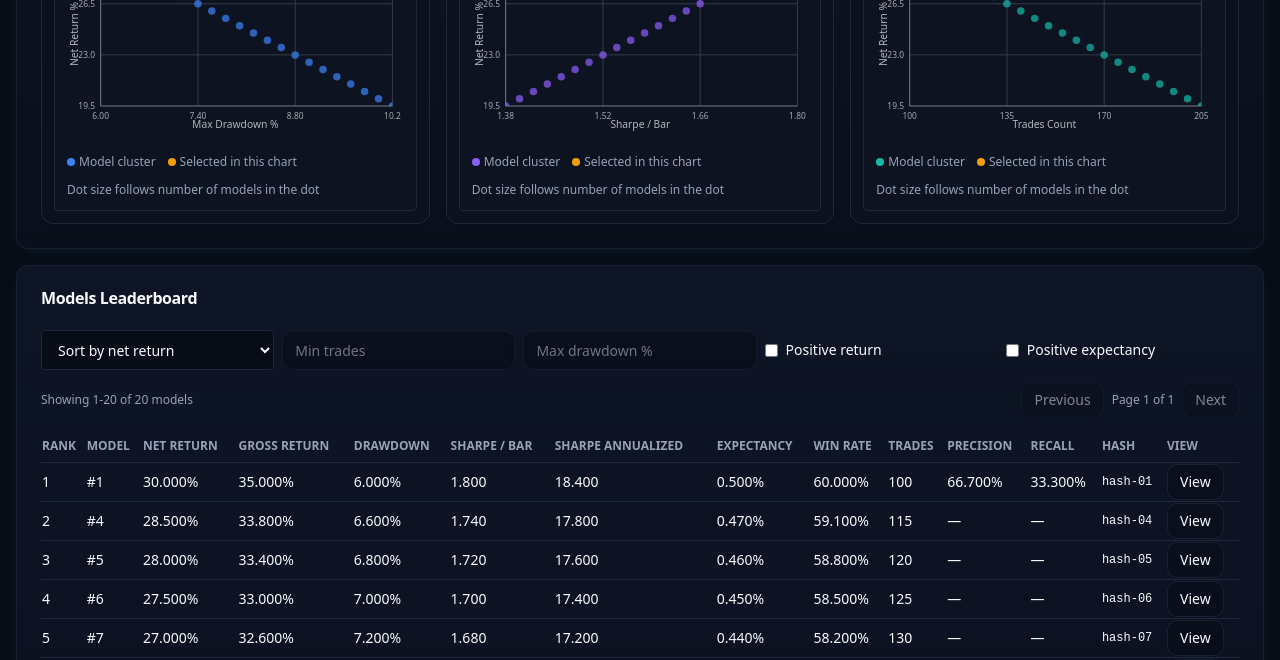
Test: ExperimentDetailView › paginates the models leaderboard and opens model detail popup from view
(page scrolled)
Expected: the heading "Models Leaderboard" is shown, [41,287,197,309]
Click the button "Next" at (1211, 400), box [1182,382,1239,418]
(page scrolled)
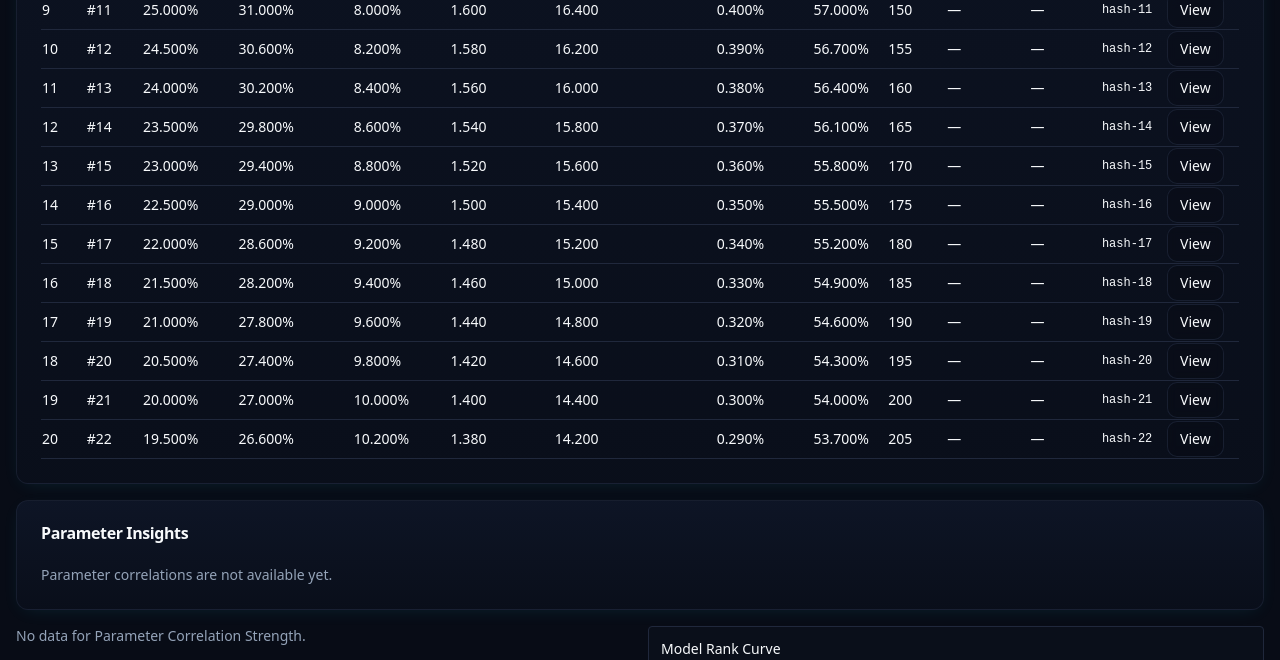
Expected: the text "#21" is shown, [86,380,142,420]
Click the button "View" in the row of "20.000%" at (1195, 400), box [1167,382,1224,418]
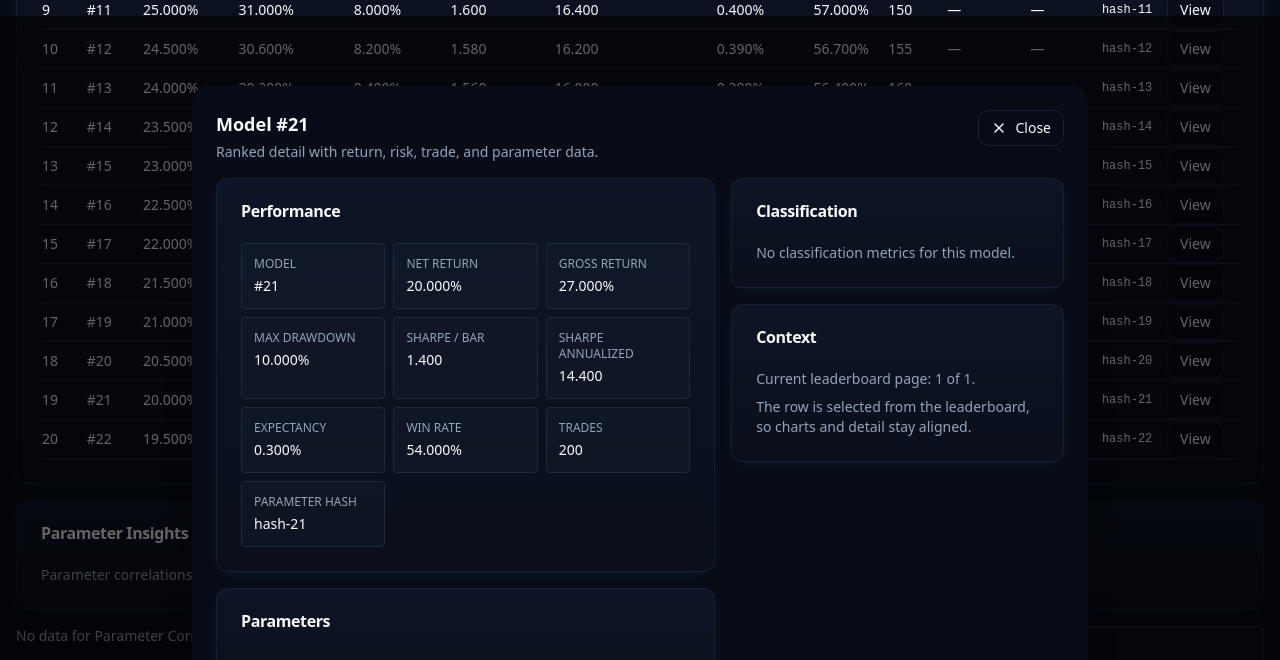
Expected: the heading "Performance" is shown, [241,200,340,222]
Expected: the text "#21" is shown, [254,276,279,295]
Expected: the text "Net return" is shown, [406,255,478,272]
Click the button with aria-label "Close model detail modal" at (1021, 128), box [978,110,1064,146]
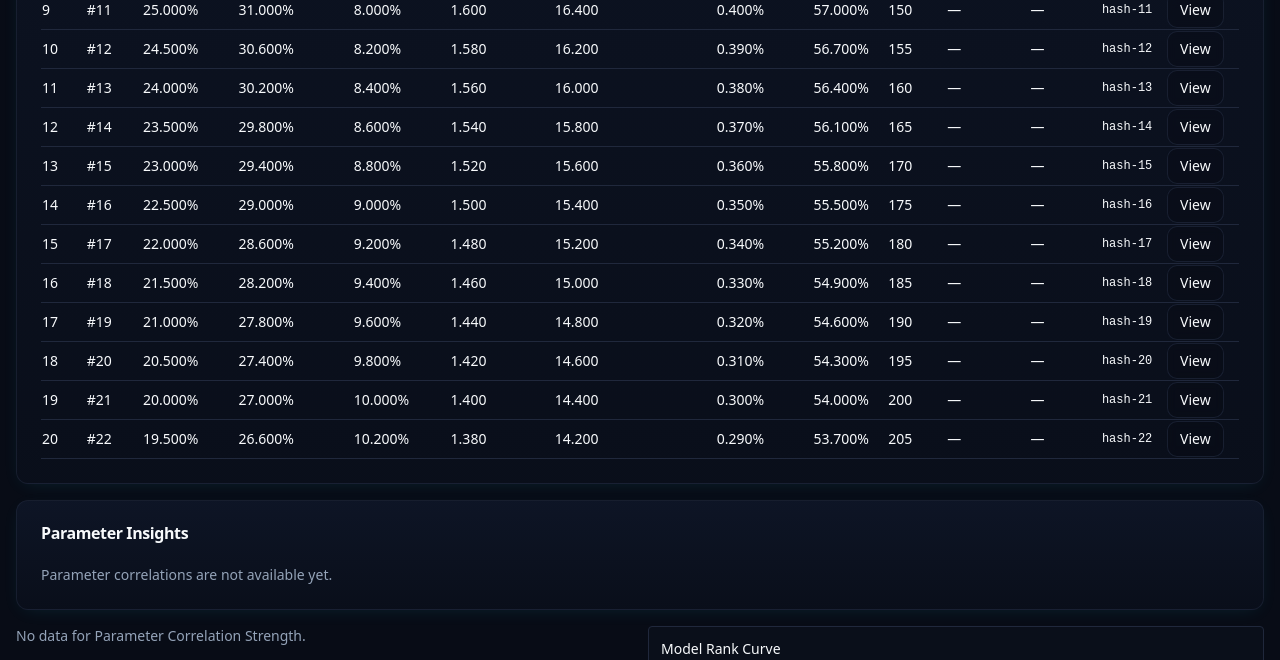
Expected: the heading "Model #21" is gone
